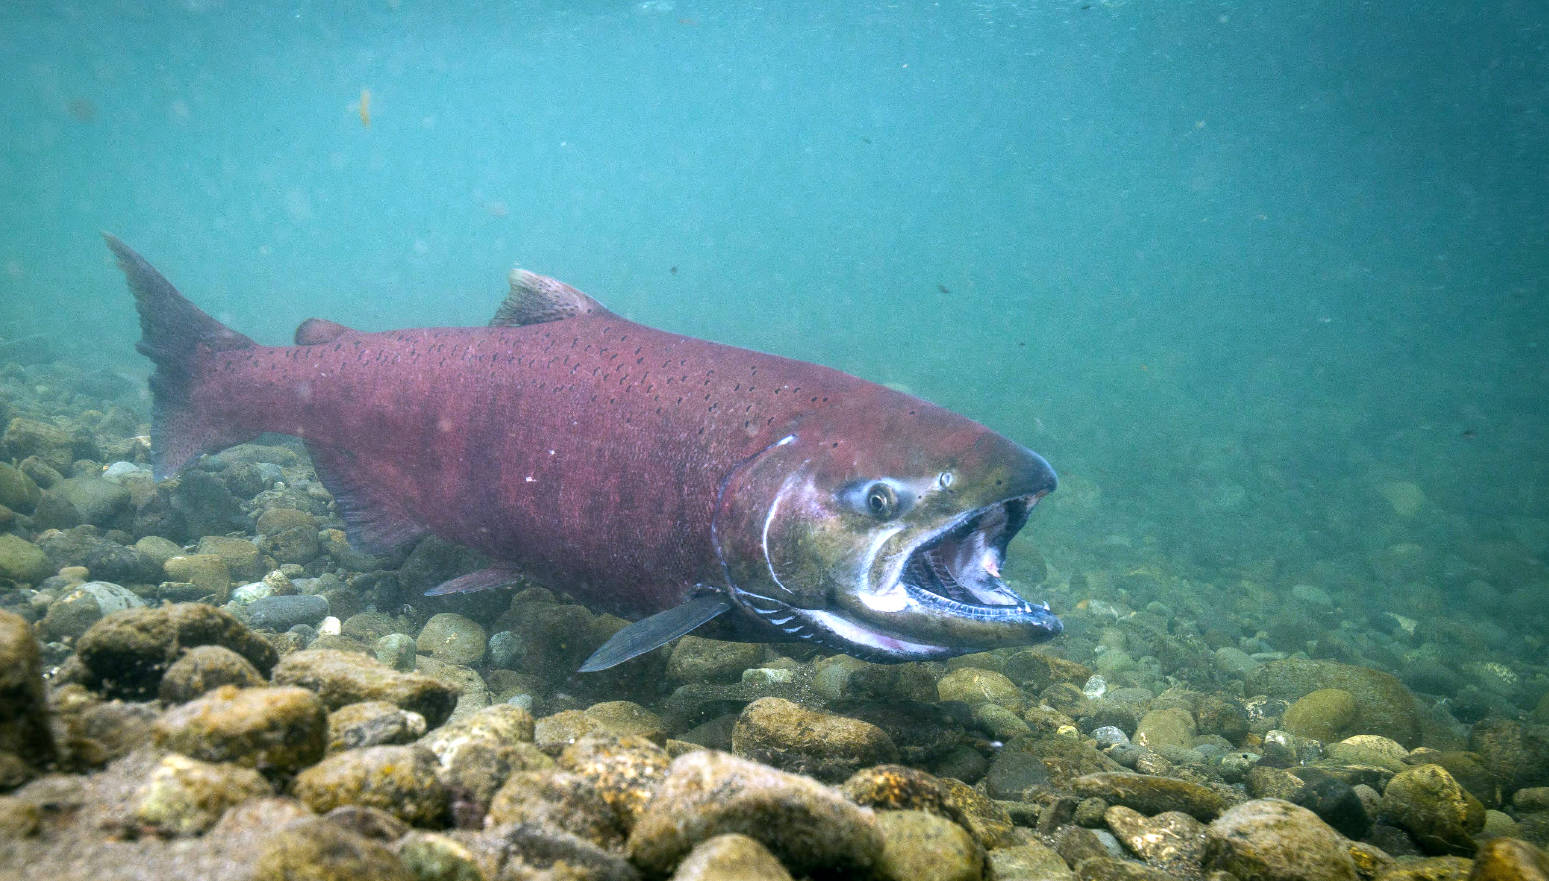Chinook salmon: (87, 223, 1072, 684)
